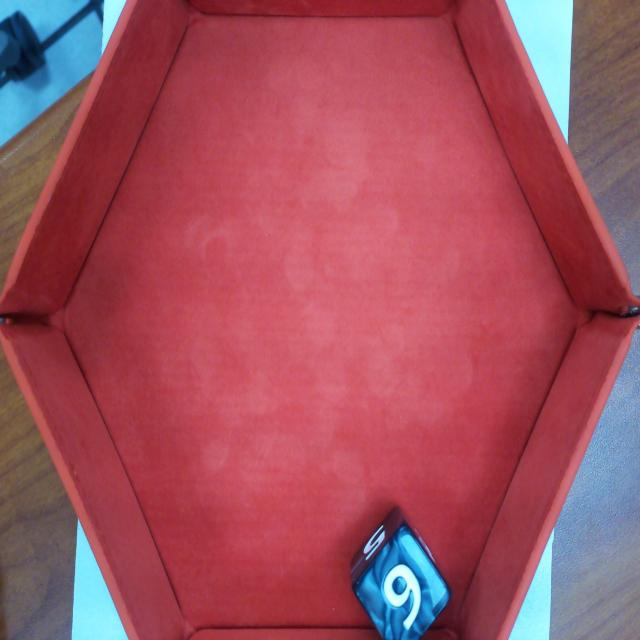dice: (353, 524, 452, 640)
